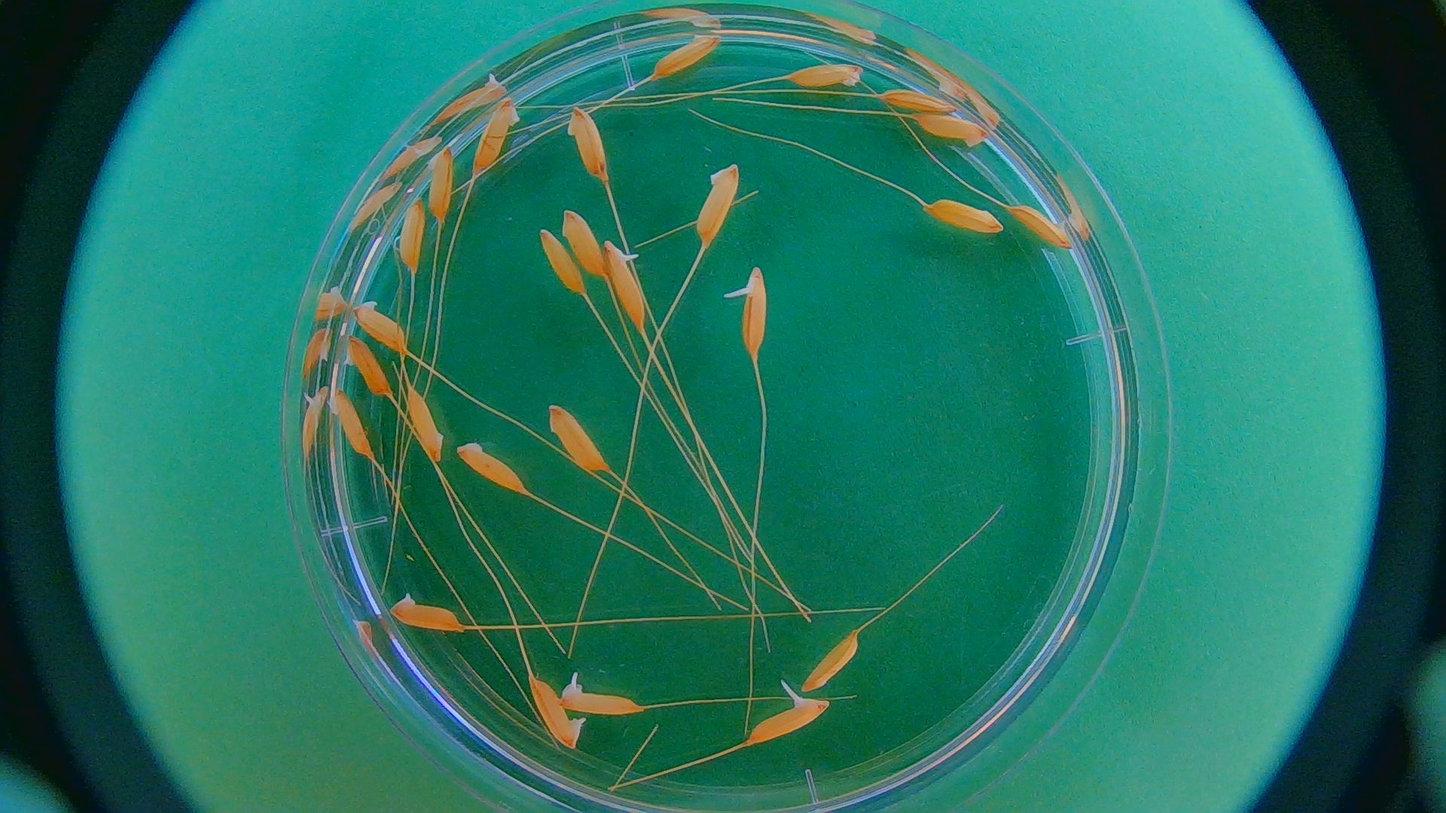no: (546, 403, 618, 478), (630, 32, 722, 87), (526, 668, 585, 751), (804, 624, 868, 695), (452, 440, 526, 498), (693, 161, 741, 247), (1006, 195, 1077, 253), (532, 227, 590, 298), (563, 99, 612, 181), (474, 97, 521, 181), (385, 595, 465, 641), (341, 334, 393, 400), (920, 196, 1005, 236), (563, 202, 606, 281), (404, 385, 446, 461), (355, 297, 412, 351), (914, 111, 990, 151), (786, 55, 865, 93), (397, 195, 426, 282), (880, 86, 959, 114), (429, 147, 455, 231)
yes: (746, 696, 828, 744), (602, 242, 644, 330), (322, 386, 370, 463), (557, 683, 643, 718), (737, 266, 767, 360)
